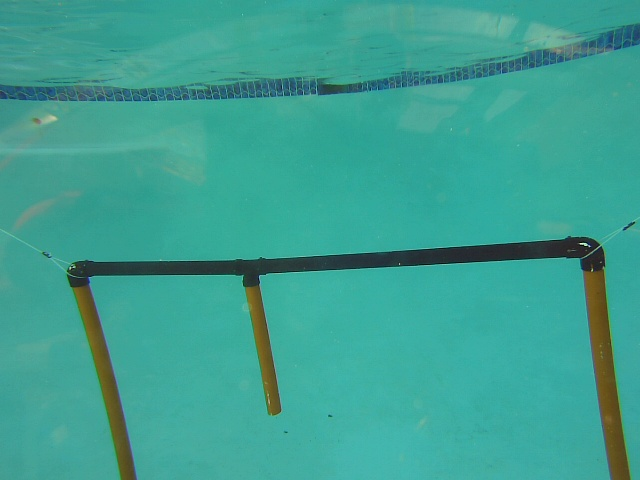Gate: (68, 279, 137, 480), (579, 265, 634, 480), (240, 277, 283, 418)
